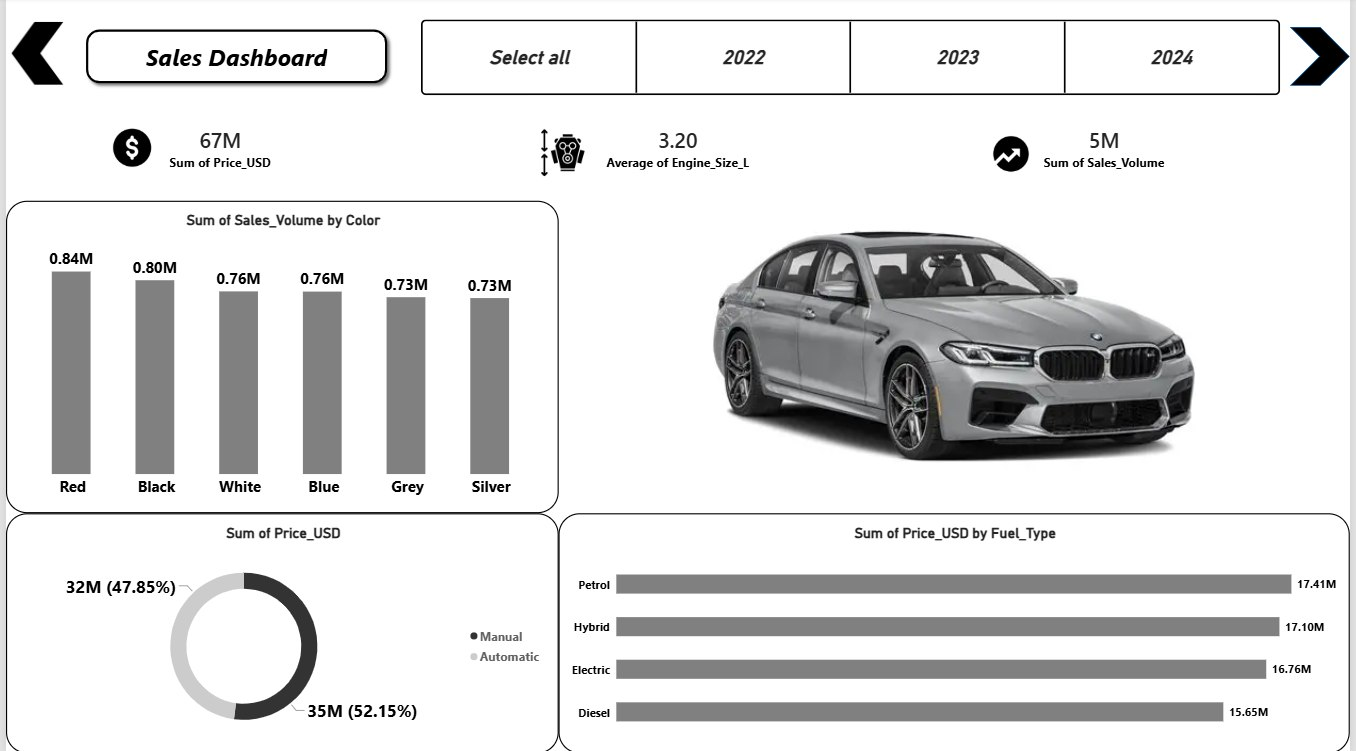

What the dashboard file says about the page in this screenshot:
{"tool":"powerbi","page":{"name":"M5","canvas":[1920,1080],"ordinal":4},"visuals":[{"type":"shape","box":[105.4,37.5,448.2,94.6],"z":0},{"type":"advancedSlicerVisual","fields":{"Values":["BMW_Car_Sales_Classification - BMW_Car_Sales_Classification.Year"]},"box":[592.9,32.1,1228.6,108.9],"z":1000},{"type":"cardVisual","fields":{"Data":["Sum(BMW_Car_Sales_Classification - BMW_Car_Sales_Classification.Price_USD)"]},"box":[82.1,141.1,448,150],"z":2000},{"type":"cardVisual","fields":{"Data":["Sum(BMW_Car_Sales_Classification - BMW_Car_Sales_Classification.Sales_Volume)"]},"box":[1344.6,141.1,448,150],"z":3000},{"type":"cardVisual","fields":{"Data":["Avg(BMW_Car_Sales_Classification - BMW_Car_Sales_Classification.Engine_Size_L)"]},"box":[735.7,141.1,448,150],"z":4000},{"type":"image","box":[148.2,185.7,64.3,58.9],"z":5000},{"type":"image","box":[703.6,185.7,183.9,73.2],"z":6000},{"type":"image","box":[1405.4,185.7,60.7,76.8],"z":7000},{"type":"image","box":[789.3,262.5,1130.4,475],"z":8000},{"type":"columnChart","fields":{"Category":["BMW_Car_Sales_Classification - BMW_Car_Sales_Classification.Color"],"Y":["Sum(BMW_Car_Sales_Classification - BMW_Car_Sales_Classification.Sales_Volume)"]},"box":[0,291.1,789.3,446.4],"z":9000},{"type":"donutChart","title":"Sum of Price_USD ","fields":{"Category":["BMW_Car_Sales_Classification - BMW_Car_Sales_Classification.Transmission"],"Y":["Sum(BMW_Car_Sales_Classification - BMW_Car_Sales_Classification.Price_USD)"]},"box":[0,737.5,789.3,342.9],"z":10000},{"type":"barChart","fields":{"Category":["BMW_Car_Sales_Classification - BMW_Car_Sales_Classification.Fuel_Type"],"Y":["Sum(BMW_Car_Sales_Classification - BMW_Car_Sales_Classification.Price_USD)"]},"box":[789.3,737.5,1130.4,342.9],"z":11000},{"type":"shape","box":[1833.9,42.9,85.7,83.9],"z":11001},{"type":"image","box":[0,19.6,89.3,121.4],"z":11002}]}

Visuals, with their boxes in screenshot pixels (x1, y1, x2, y2), scaled from the page's 1920x1080 canvas onto the 1356x751 screenshot:
shape: 74:26:391:92
advancedSlicerVisual - BMW_Car_Sales_Classification - BMW_Car_Sales_Classification.Year: 419:22:1286:98
cardVisual - Sum(BMW_Car_Sales_Classification - BMW_Car_Sales_Classification.Price_USD): 58:98:374:202
cardVisual - Sum(BMW_Car_Sales_Classification - BMW_Car_Sales_Classification.Sales_Volume): 950:98:1266:202
cardVisual - Avg(BMW_Car_Sales_Classification - BMW_Car_Sales_Classification.Engine_Size_L): 520:98:836:202
image: 105:129:150:170
image: 497:129:627:180
image: 993:129:1035:183
image: 557:183:1355:513
columnChart - BMW_Car_Sales_Classification - BMW_Car_Sales_Classification.Color x Sum(BMW_Car_Sales_Classification - BMW_Car_Sales_Classification.Sales_Volume): 0:202:557:513
"Sum of Price_USD " donutChart: 0:513:557:750
barChart - BMW_Car_Sales_Classification - BMW_Car_Sales_Classification.Fuel_Type x Sum(BMW_Car_Sales_Classification - BMW_Car_Sales_Classification.Price_USD): 557:513:1355:750
shape: 1295:30:1355:88
image: 0:14:63:98
